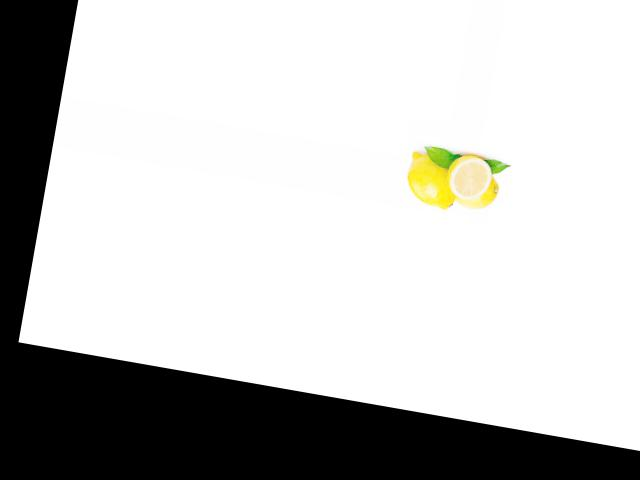lemon: (443, 147, 494, 202)
